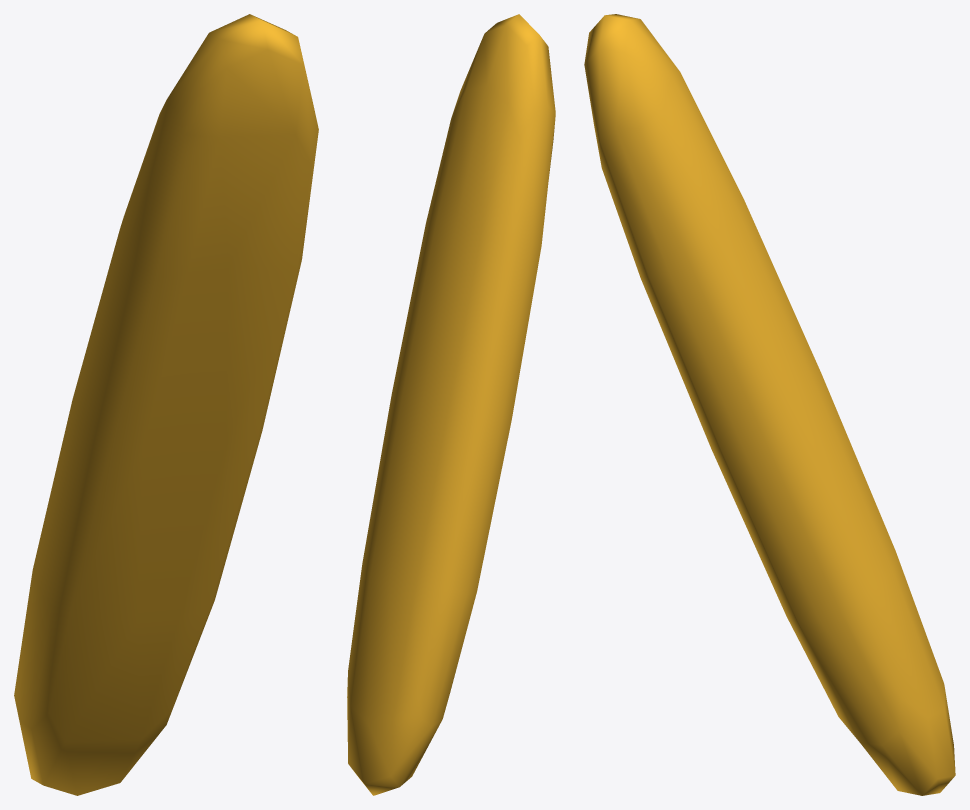
The model's file is nervoso-nucleus-of-hypoglossal-nerve-l.glb.
3 views of the same model, side by side, from view 1: azimuth 30°, elevation 25°; view 2: azimuth 150°, elevation 25°; view 3: azimuth 270°, elevation 25° (orthographic). The views are drawn at different scales.
Visible parts, largest first — view 1: Nucleus of hypoglossal nerve.l; view 2: Nucleus of hypoglossal nerve.l; view 3: Nucleus of hypoglossal nerve.l.
Part boxes in pixels (<box>): Nucleus of hypoglossal nerve.l: <box>14,14,318,795</box>; Nucleus of hypoglossal nerve.l: <box>347,14,555,795</box>; Nucleus of hypoglossal nerve.l: <box>584,14,955,795</box>.
Bounding box in the file's own units: 0.00131 × 0.00735 × 0.00318.
